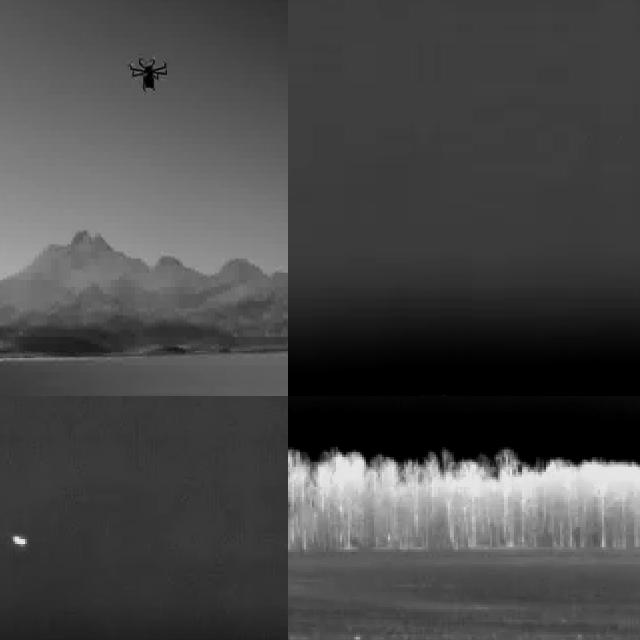1: (0, 529, 36, 559)
drone: (128, 48, 172, 98)
